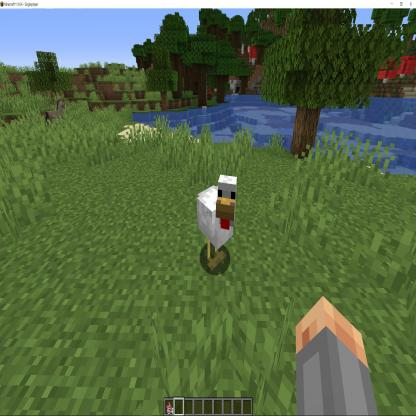minecraft-pigs: (195, 173, 238, 276)
